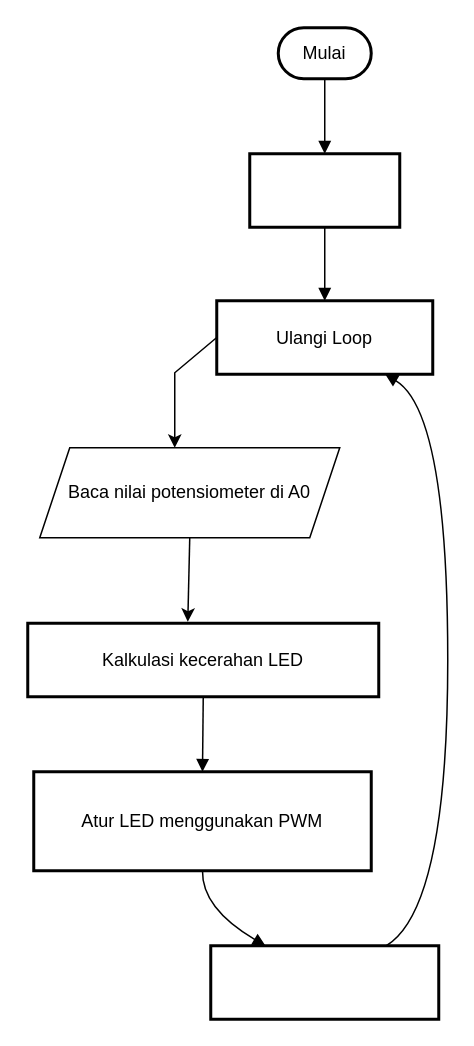
Image size: 474x1046. Some labels were removed from this diagram. The shapes that lost their labels are listed below. From the top down, each one's centre as x and y in pixels, then its label:
(324,190): Setup
(324,982): Tunggu 10ms
